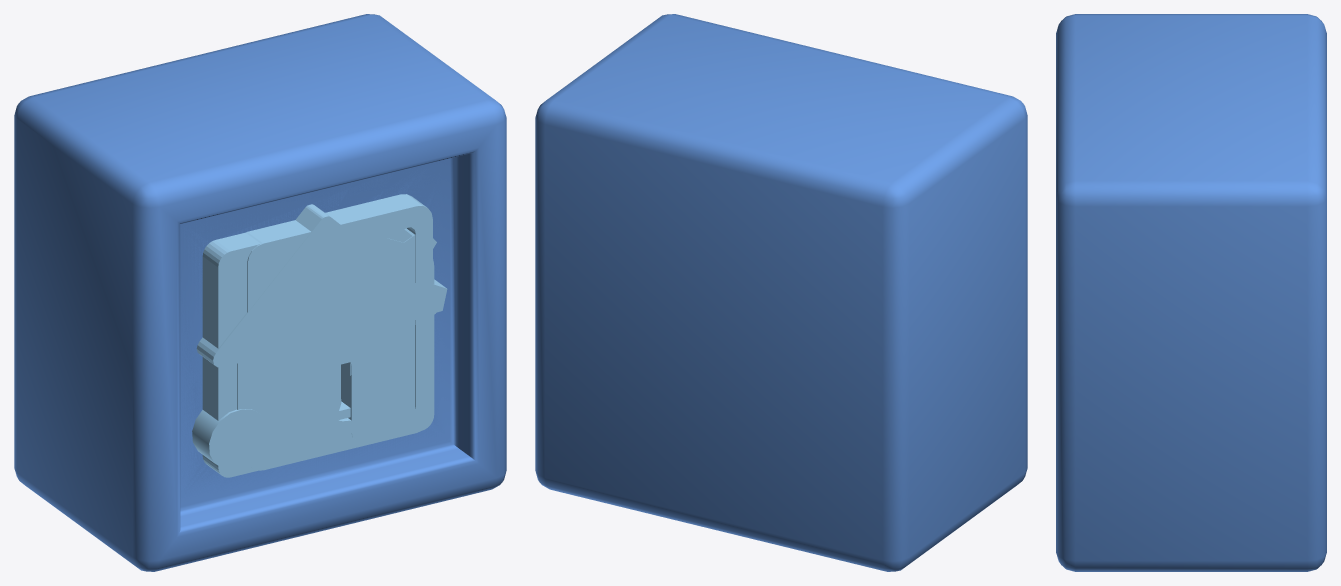
File: UIBtn.fbx
3 renders of one model, left to right at view 1: azimuth 30°, elevation 25°; view 2: azimuth 150°, elevation 25°; view 3: azimuth 270°, elevation 25°, orthographic.
Visible parts, largest first — view 1: BGM_btn, Lobby, Save_btn, Exit, Save, BGM; view 2: BGM_btn; view 3: BGM_btn.
Part boxes in pixels (<box>): BGM_btn: <box>14,14,506,571</box>; Lobby: <box>196,204,439,467</box>; Save_btn: <box>180,159,449,506</box>; Exit: <box>246,194,432,470</box>; Save: <box>202,229,434,477</box>; BGM: <box>192,228,447,469</box>; BGM_btn: <box>535,14,1027,571</box>; BGM_btn: <box>1056,14,1326,571</box>.
Size of the model in its own units: 185 by 185 by 116.
